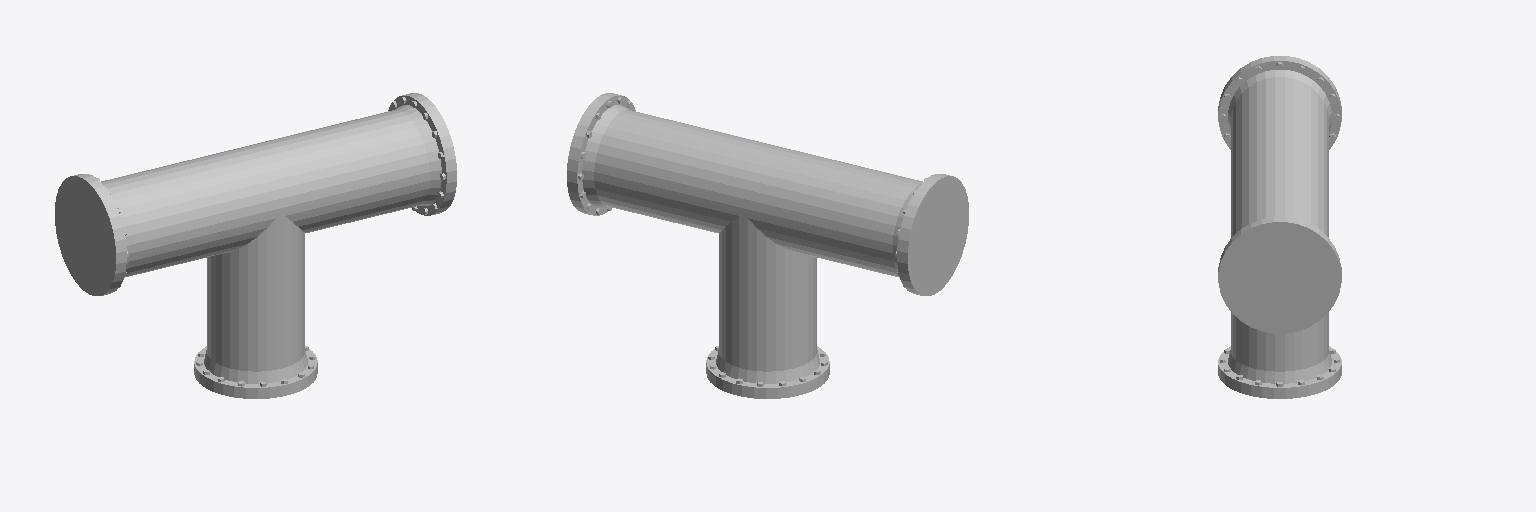
File: pipeworks_pipe_6.obj
3 renders of one model, left to right at view 1: azimuth 30°, elevation 25°; view 2: azimuth 150°, elevation 25°; view 3: azimuth 270°, elevation 25°, orthographic.
Parts seen in each view (by area): view 1: Pipe_Cylinder.002; view 2: Pipe_Cylinder.002; view 3: Pipe_Cylinder.002.
Part boxes in pixels (x1,y1,x2,y2): Pipe_Cylinder.002: (55,93,456,398); Pipe_Cylinder.002: (567,93,968,398); Pipe_Cylinder.002: (1218,56,1341,398).
Size of the model in its own units: 1 by 0.6562 by 0.3125.